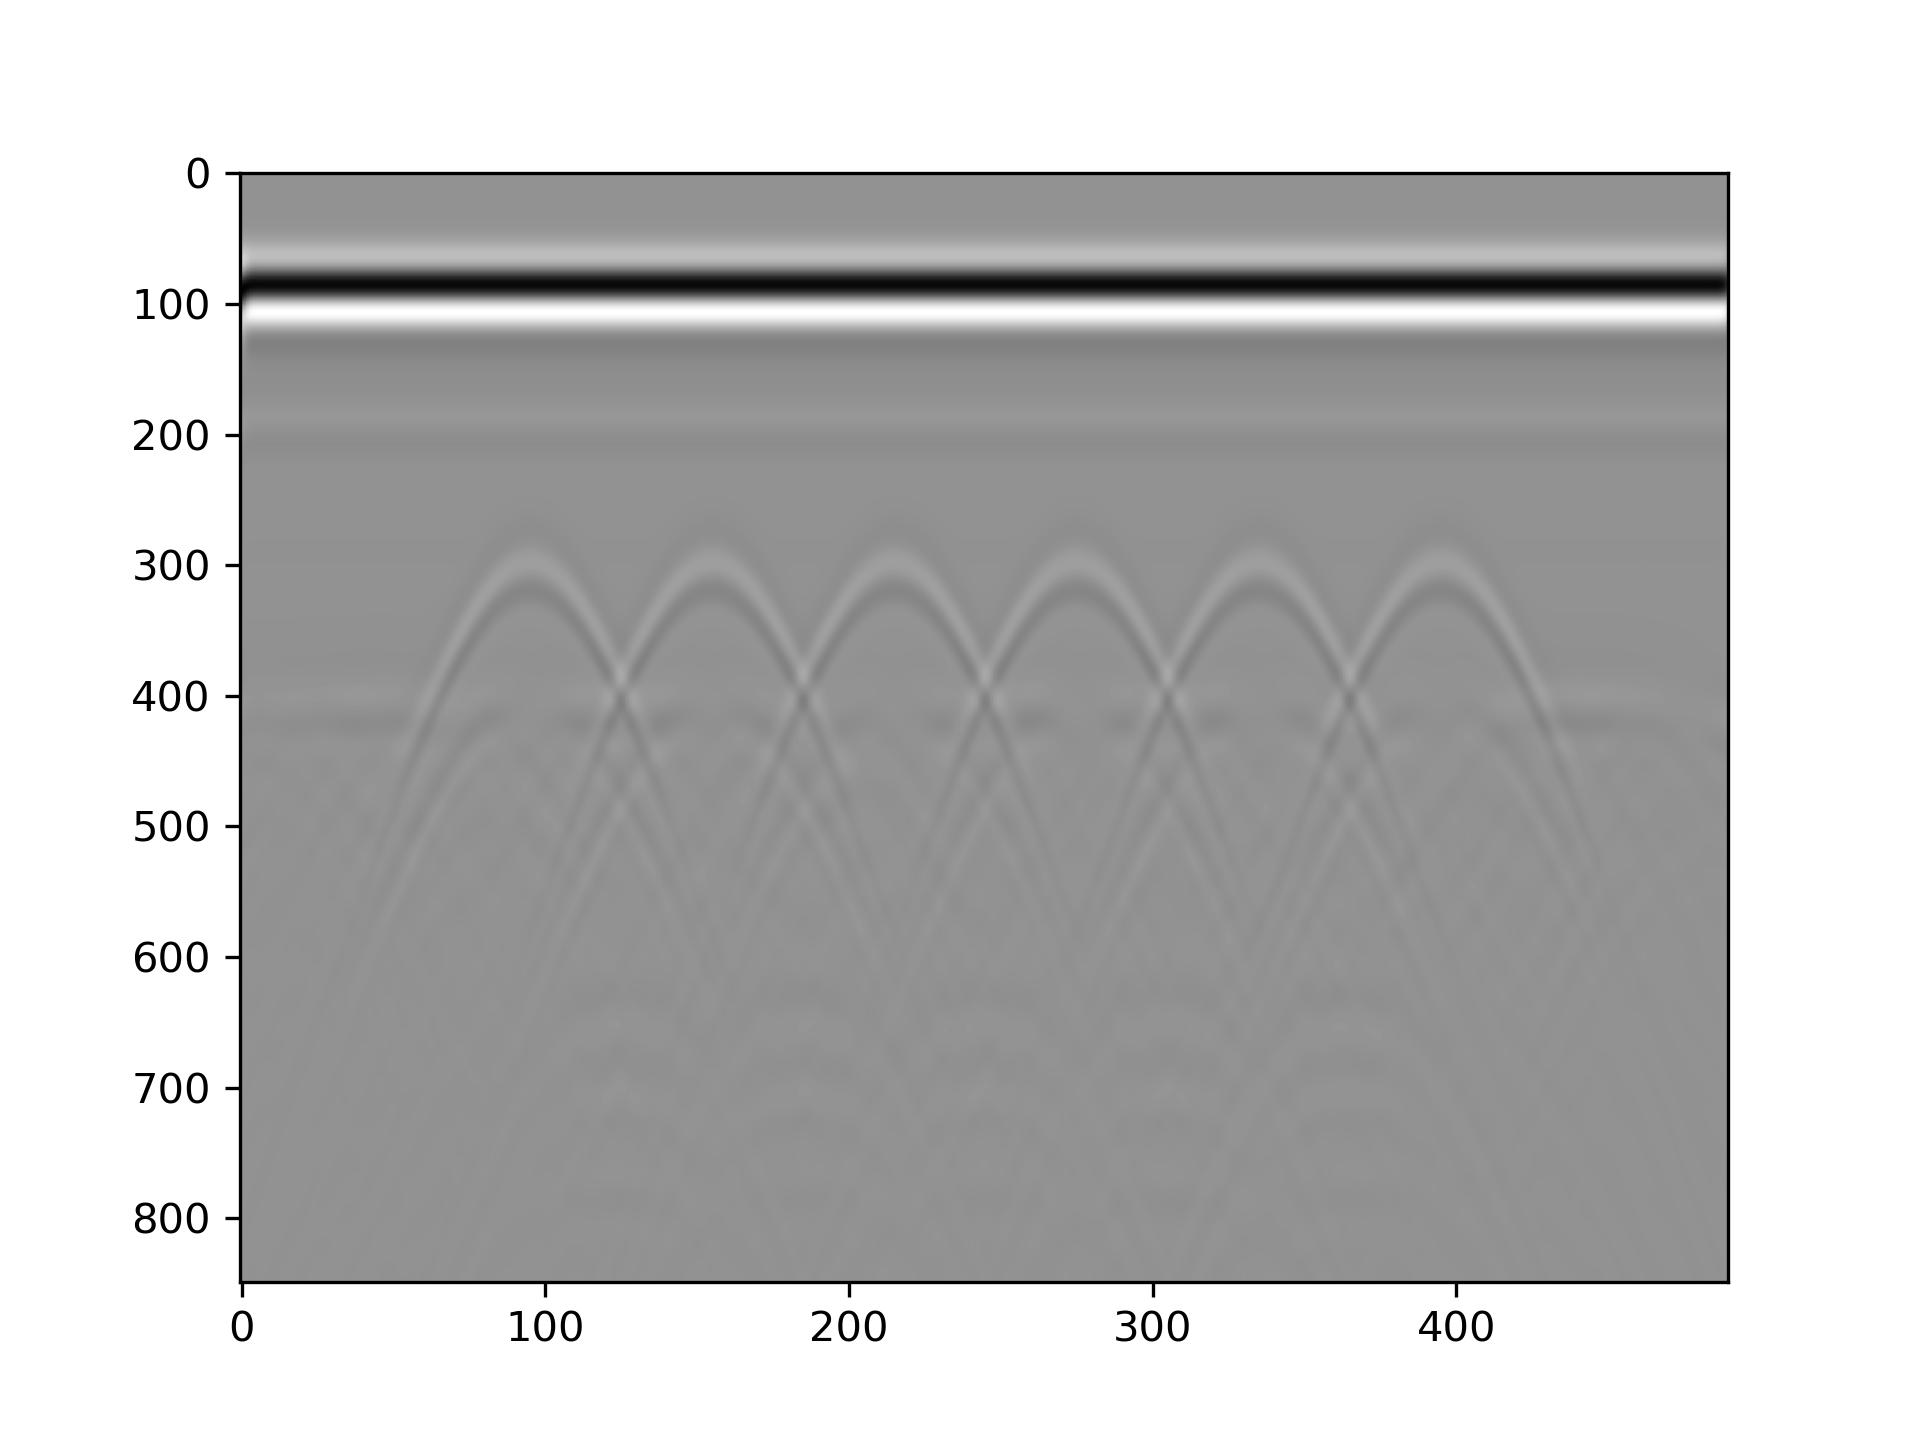钢筋: (505, 552, 555, 602), (688, 552, 738, 602), (872, 552, 922, 602), (1055, 552, 1105, 602), (1238, 552, 1288, 602), (1421, 552, 1471, 602)
